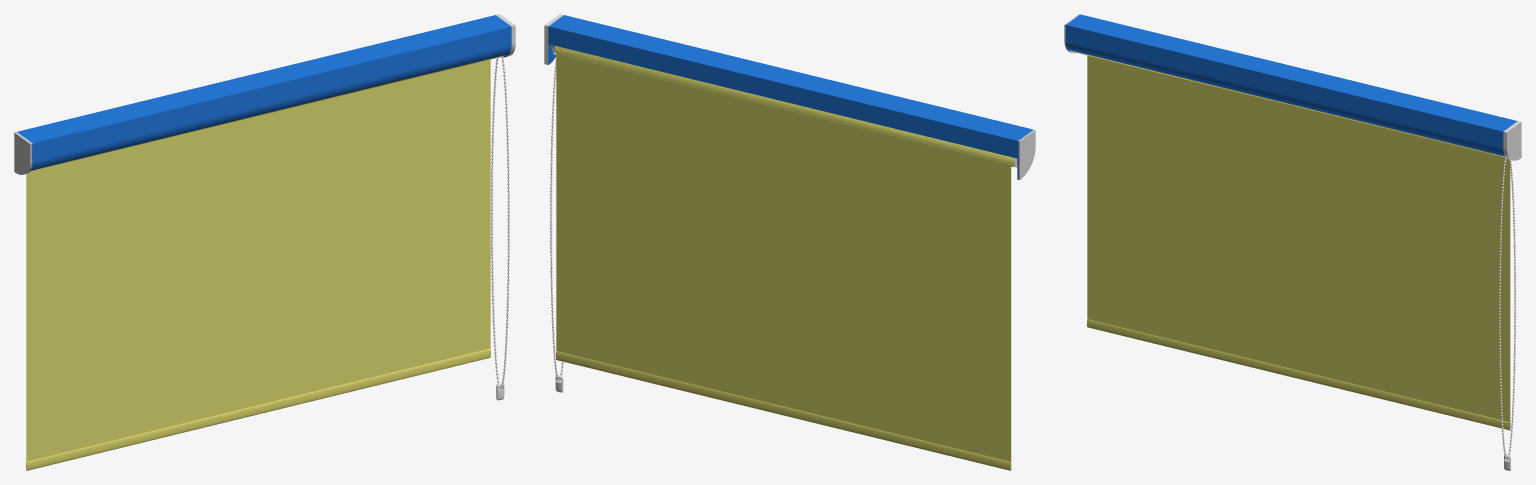
The model's file is casette.glb.
3 renders of one model, left to right at view 1: azimuth 30°, elevation 25°; view 2: azimuth 150°, elevation 25°; view 3: azimuth 330°, elevation 25°, orthographic. The views are drawn at different scales.
Parts seen in each view (by area): view 1: blind, cassettemid, sides, sweep; view 2: blind, cassettemid, sides; view 3: blind, cassettemid, sides, sweep.
Part boxes in pixels (x1,y1,x2,y2): blind: [26, 55, 501, 470]; cassettemid: [17, 15, 511, 173]; sides: [14, 14, 515, 174]; sweep: [491, 56, 509, 388]; blind: [556, 46, 1017, 470]; cassettemid: [548, 15, 1033, 179]; sides: [544, 14, 1035, 179]; blind: [1077, 52, 1510, 430]; cassettemid: [1065, 14, 1517, 156]; sides: [1064, 14, 1521, 160]; sweep: [1499, 159, 1515, 459].
Bounding box in the file's own units: 280 × 208 × 17.94.
